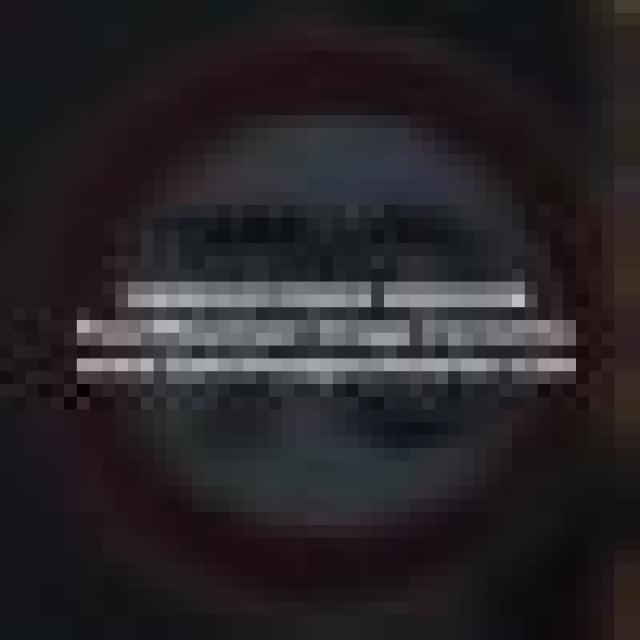SPEED_LIMIT_70: (51, 51, 589, 563)
